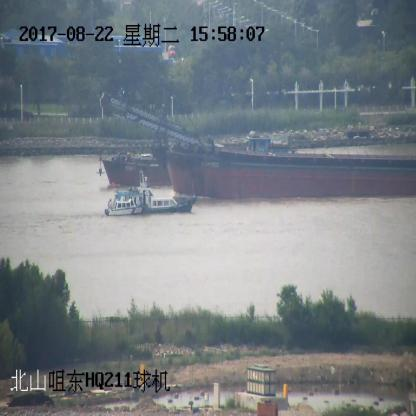Bulk Carrier: (100, 95, 416, 201), (99, 153, 172, 186)
